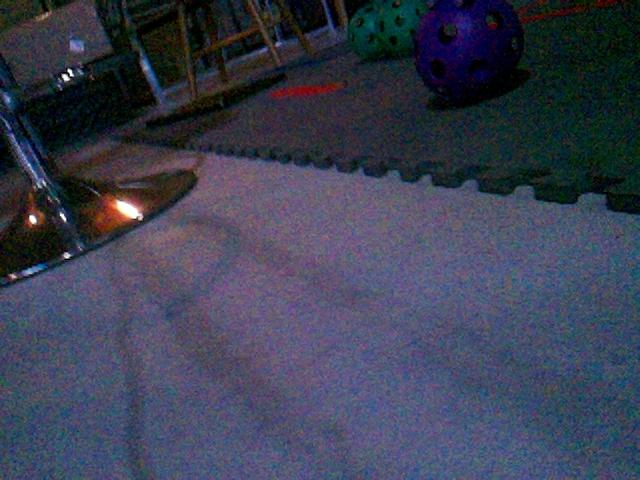Green: (376, 0, 434, 63), (350, 5, 377, 58)
Purple: (410, 0, 523, 102)
